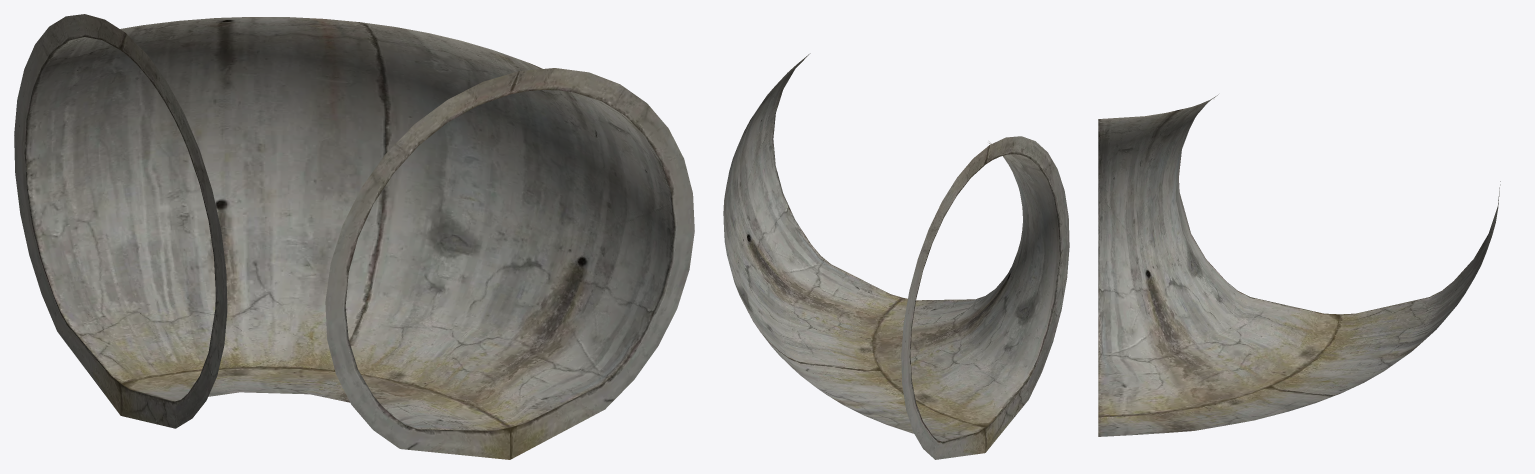
File: sewer_tunnel_bend_600x600.glb
3 renders of one model, left to right at view 1: azimuth 30°, elevation 25°; view 2: azimuth 150°, elevation 25°; view 3: azimuth 270°, elevation 25°, orthographic. The views are drawn at different scales.
Parts seen in each view (by area): view 1: sewer_tunnel_bend_600x600; view 2: sewer_tunnel_bend_600x600; view 3: sewer_tunnel_bend_600x600.
Boxes of the visible parts, x1,y1,x2,y2 form: sewer_tunnel_bend_600x600: (14,14,694,459); sewer_tunnel_bend_600x600: (723,53,1069,459); sewer_tunnel_bend_600x600: (1098,94,1500,436).
Bounding box in the file's own units: 5.25 × 4.49 × 5.25.
Materials: 1 (1 with a texture image).
